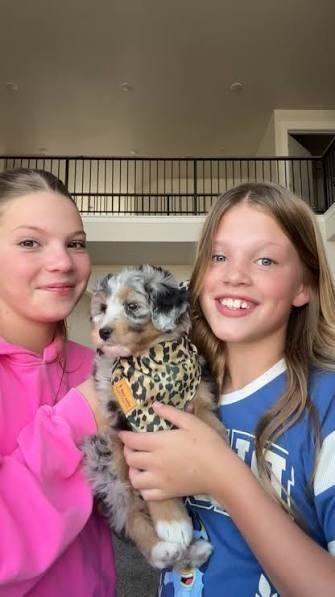puppy-dog: (84, 266, 221, 572)
